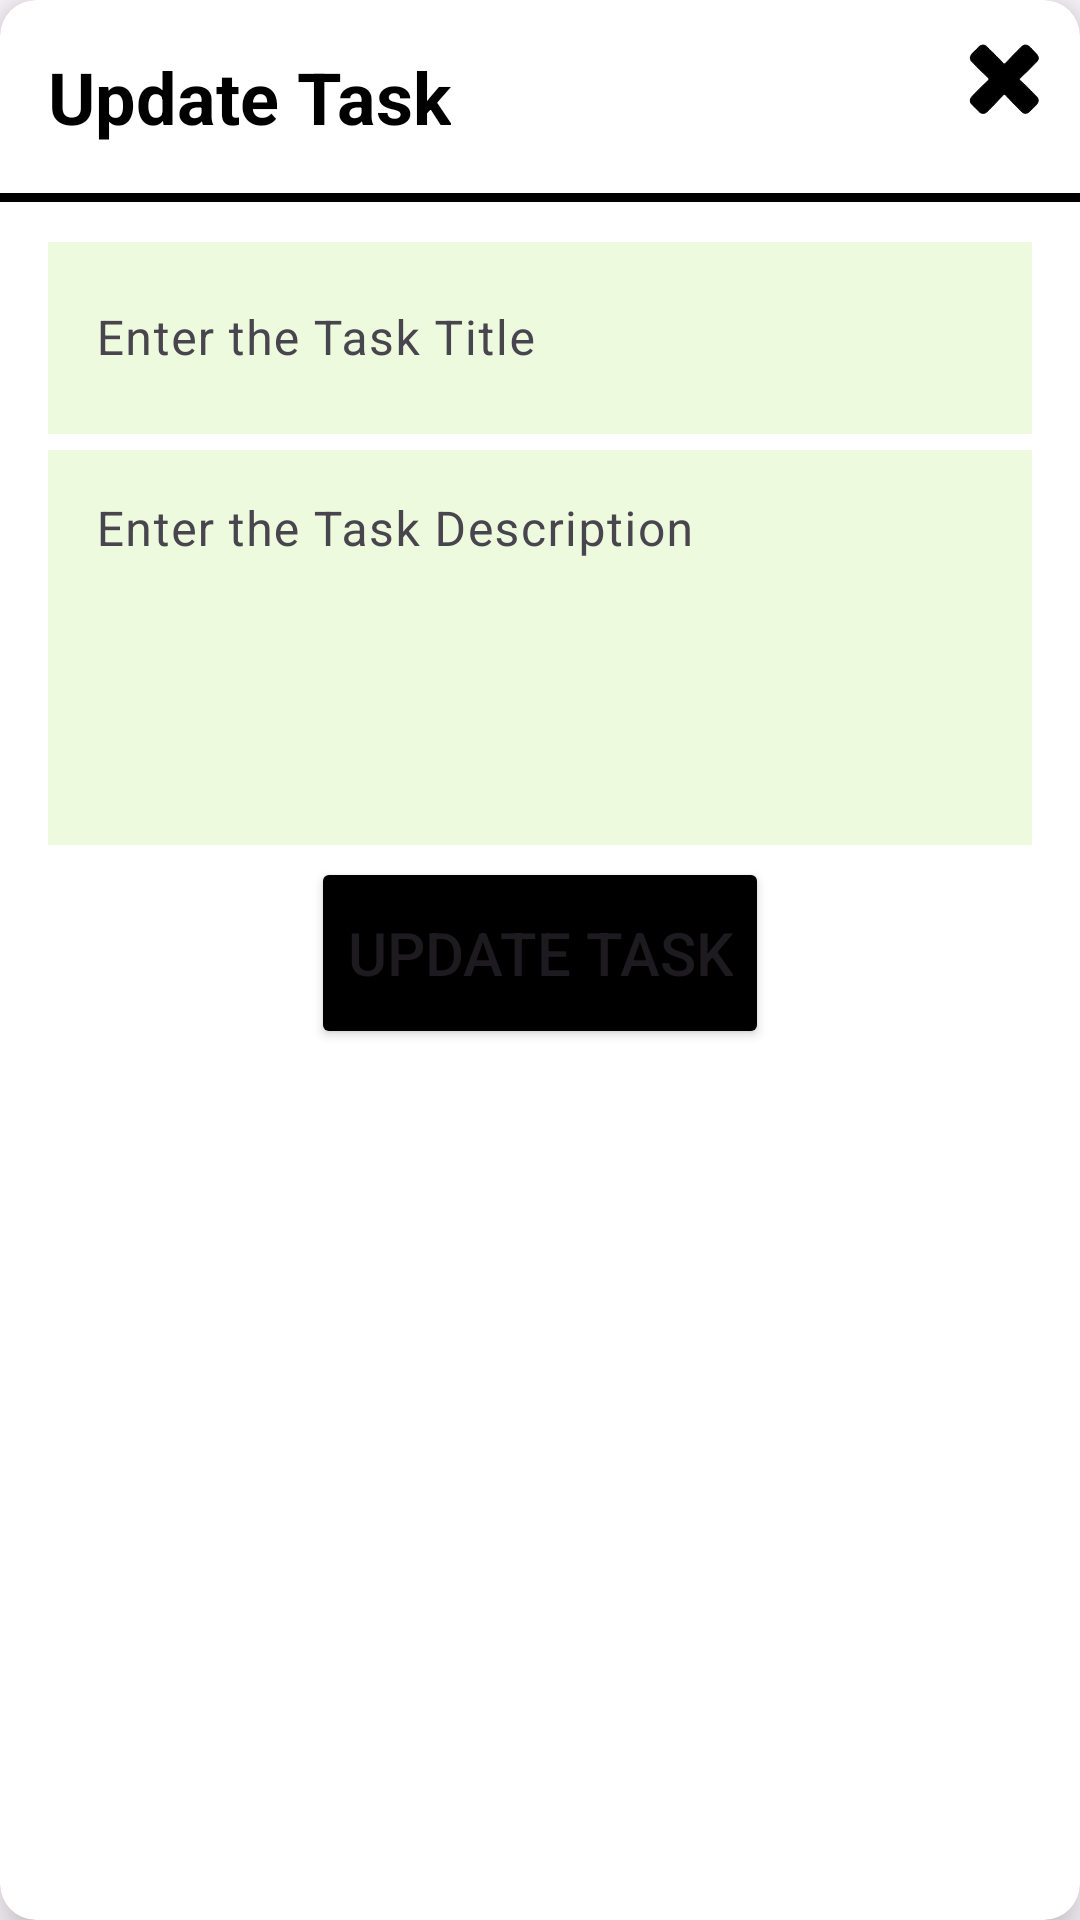

Icon bounding boxes for this 1080 × 1920 phone screenshot, format (x1, y1, x2, y2):
closeicon: (969, 44, 1039, 114)
